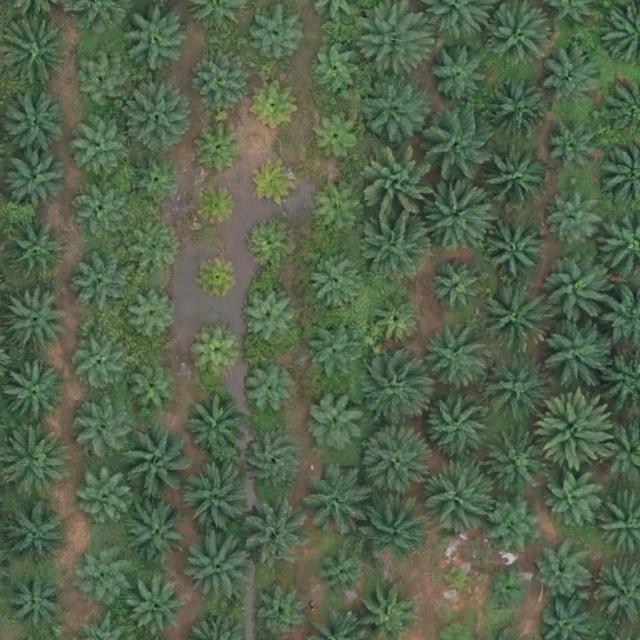Healthy: (539, 392, 617, 471), (122, 81, 193, 152), (544, 257, 615, 328), (540, 316, 610, 387), (481, 354, 552, 424), (419, 326, 489, 397), (359, 426, 429, 497), (359, 490, 429, 561), (180, 531, 250, 602), (182, 466, 252, 537), (118, 427, 188, 498), (478, 147, 548, 218), (486, 2, 556, 73), (426, 113, 497, 183), (367, 152, 437, 223), (122, 4, 192, 75), (479, 284, 549, 354), (423, 388, 493, 458), (422, 462, 492, 532), (357, 358, 427, 428), (241, 494, 311, 564), (423, 179, 493, 249), (363, 212, 433, 282), (359, 73, 429, 143), (305, 389, 368, 452), (184, 396, 247, 459), (74, 399, 137, 462), (544, 45, 607, 108), (485, 219, 548, 282), (2, 94, 65, 157), (5, 146, 68, 209), (484, 429, 546, 492), (485, 493, 547, 556), (301, 473, 363, 536), (124, 501, 186, 564), (5, 286, 67, 349), (6, 504, 68, 567), (486, 80, 548, 143), (426, 39, 488, 102), (5, 219, 67, 282), (72, 251, 134, 314), (242, 432, 304, 494), (305, 326, 360, 382), (535, 547, 590, 602), (368, 295, 423, 350), (314, 546, 369, 601), (240, 291, 295, 346), (124, 366, 179, 421), (131, 584, 186, 639), (69, 336, 124, 391), (129, 153, 184, 208), (129, 227, 184, 282), (431, 261, 486, 316), (308, 108, 363, 163), (311, 185, 366, 240), (309, 44, 364, 99), (193, 51, 248, 106), (73, 126, 128, 181), (73, 183, 128, 238), (546, 472, 600, 527), (241, 363, 295, 418), (126, 288, 180, 343), (76, 543, 130, 598), (78, 471, 132, 526), (10, 574, 64, 629), (547, 129, 601, 184), (550, 194, 604, 249), (310, 253, 364, 308), (248, 8, 302, 63), (76, 56, 130, 111)
Small: (244, 219, 291, 267), (484, 567, 531, 615), (197, 123, 244, 170), (438, 560, 477, 599)
Yellow: (196, 252, 243, 300), (254, 159, 301, 207), (192, 332, 239, 379), (192, 184, 239, 231), (254, 83, 301, 130)
